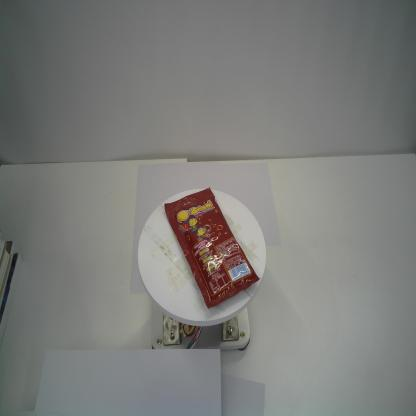Candy: (164, 185, 261, 311)
